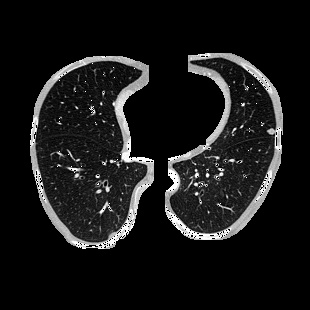PN: (267, 127, 275, 135)
